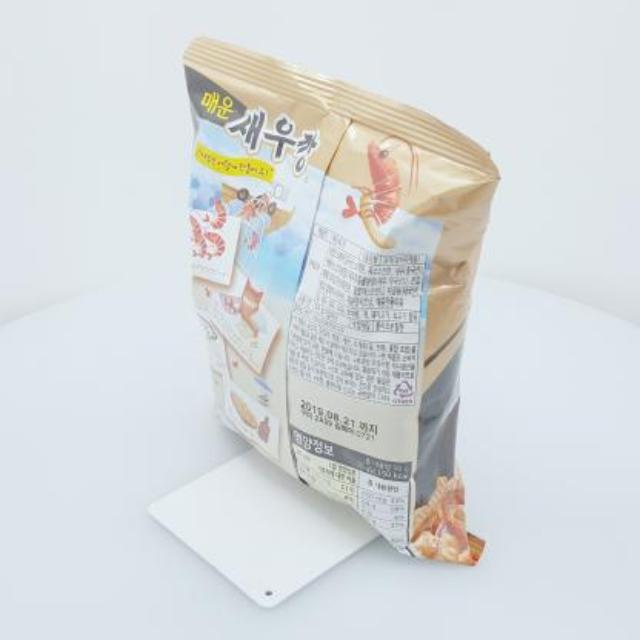snack_bag: (173, 26, 499, 570)
